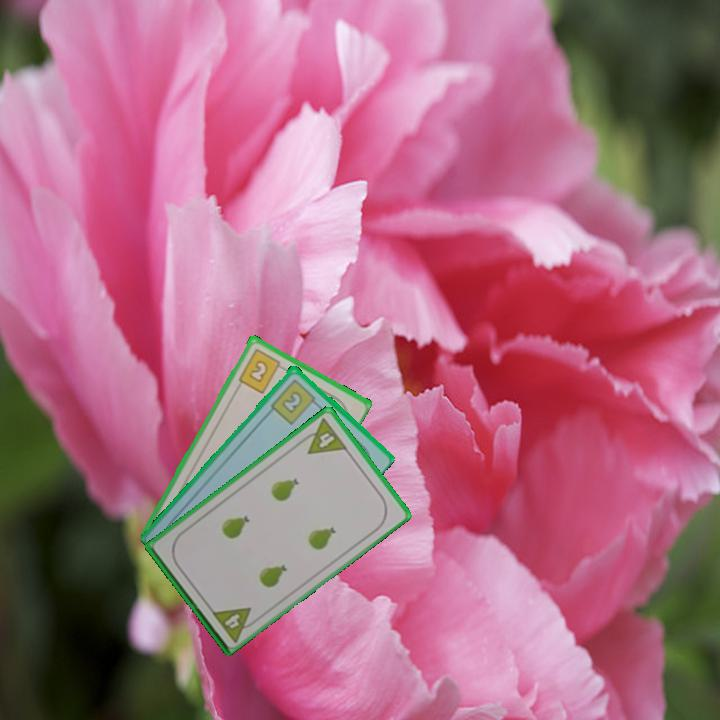2b: (267, 375, 321, 427), (235, 345, 288, 396)
4p: (296, 414, 350, 457), (208, 603, 261, 645)
